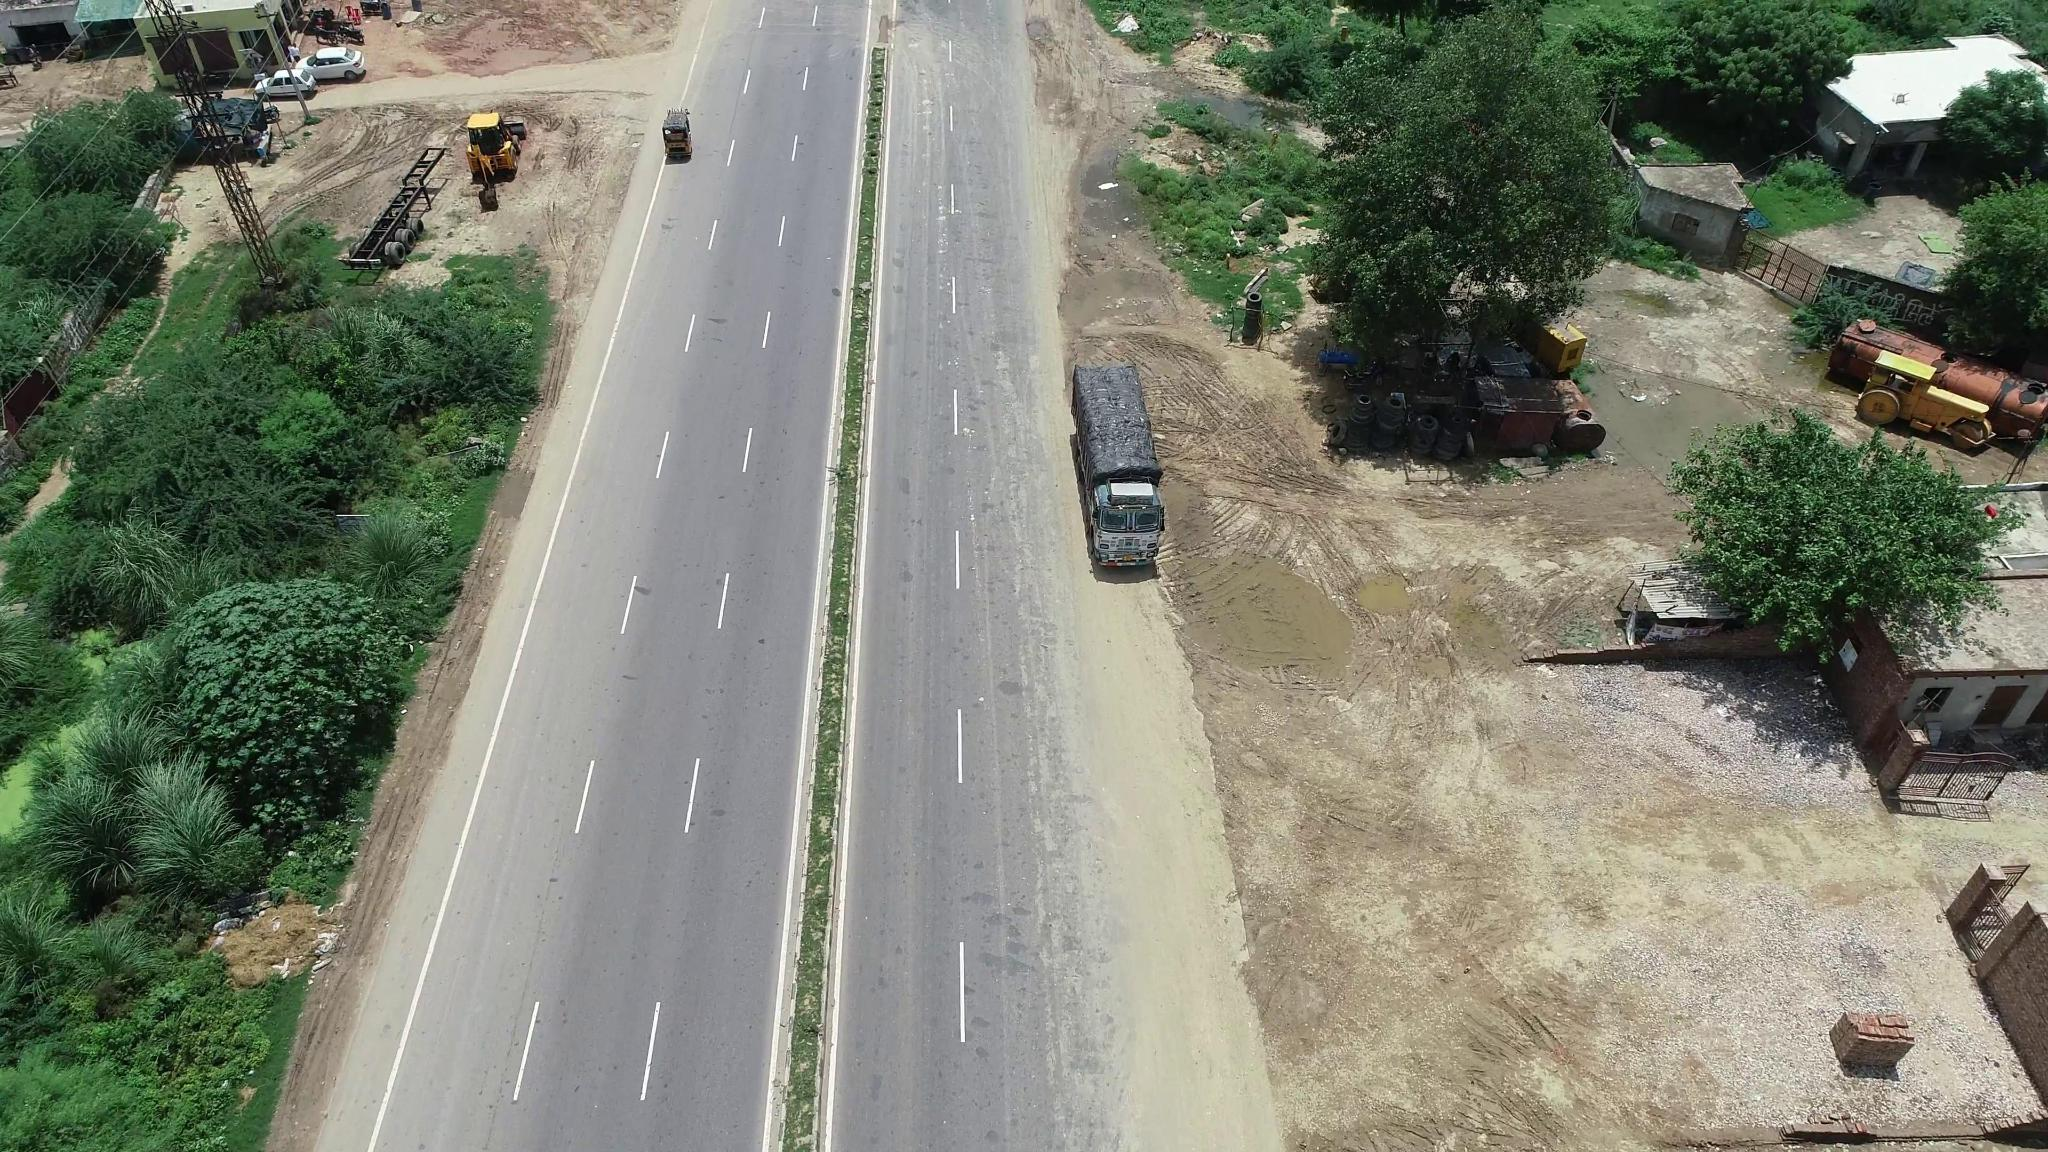Muddy_road: (1075, 606, 1245, 1124)
